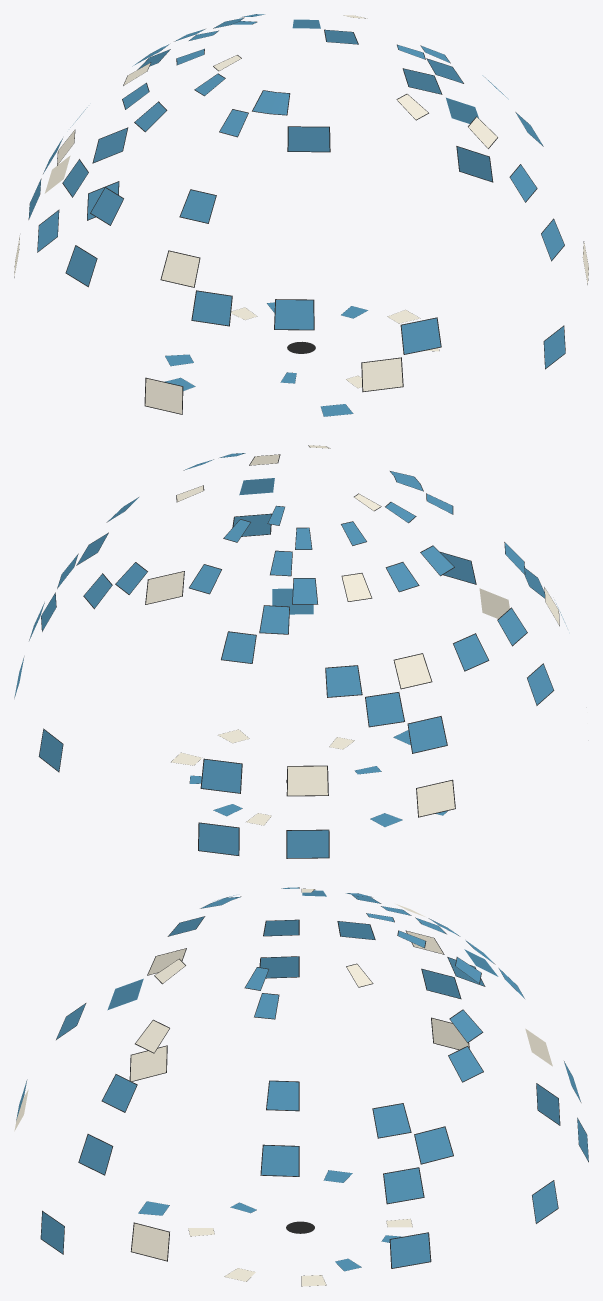
File: Globe.glb
3 renders of one model, top to bottom at view 1: azimuth 30°, elevation 25°; view 2: azimuth 150°, elevation 25°; view 3: azimuth 270°, elevation 25°, orthographic.
Visible parts, largest first — view 1: GblobeParticle.022, GblobeParticle.020, GblobeParticle.026, GblobeParticle.019, GblobeParticle.003, GblobeParticle.027, GblobeParticle.025, GblobeParticle.024, GblobeParticle.008, GblobeParticle.032, GblobeParticle.021, GblobeParticle.031 (+7 smaller); view 2: GblobeParticle.044, GblobeParticle.045, GblobeParticle.050, GblobeParticle.051, GblobeParticle.040, GblobeParticle.039, GblobeParticle.038, GblobeParticle.043, GblobeParticle.037, GblobeParticle.013, GblobeParticle.049, GblobeParticle.034 (+13 smaller); view 3: GblobeParticle.008, GblobeParticle.010, GblobeParticle.007, GblobeParticle.013, GblobeParticle.005, GblobeParticle.006, GblobeParticle.027, GblobeParticle.009, GblobeParticle.016, GblobeParticle.015, GblobeParticle.032, GblobeParticle.040 (+11 smaller).
Part boxes in pixels (x1,y1,x2,y2): GblobeParticle.022: [274, 299, 314, 330]; GblobeParticle.020: [361, 357, 403, 392]; GblobeParticle.026: [191, 290, 232, 326]; GblobeParticle.019: [400, 317, 441, 354]; GblobeParticle.003: [287, 126, 330, 152]; GblobeParticle.027: [144, 377, 183, 414]; GblobeParticle.025: [160, 250, 200, 287]; GblobeParticle.024: [179, 189, 216, 223]; GblobeParticle.008: [456, 146, 493, 182]; GblobeParticle.032: [65, 245, 97, 287]; GblobeParticle.021: [252, 90, 290, 115]; GblobeParticle.031: [90, 187, 123, 225]; GblobeParticle.044: [286, 765, 328, 796]; GblobeParticle.045: [286, 829, 329, 858]; GblobeParticle.050: [200, 758, 242, 793]; GblobeParticle.051: [198, 822, 239, 855]; GblobeParticle.040: [416, 779, 455, 817]; GblobeParticle.039: [407, 716, 447, 753]; GblobeParticle.038: [365, 692, 404, 727]; GblobeParticle.043: [325, 665, 362, 697]; GblobeParticle.037: [393, 653, 432, 689]; GblobeParticle.013: [145, 571, 184, 604]; GblobeParticle.049: [221, 631, 256, 663]; GblobeParticle.034: [453, 633, 489, 671]; GblobeParticle.008: [389, 1232, 431, 1268]; GblobeParticle.010: [260, 1144, 299, 1176]; GblobeParticle.007: [383, 1167, 424, 1204]; GblobeParticle.013: [130, 1222, 169, 1261]; GblobeParticle.005: [414, 1126, 453, 1164]; GblobeParticle.006: [372, 1103, 411, 1138]; GblobeParticle.027: [129, 1045, 167, 1081]; GblobeParticle.009: [266, 1080, 299, 1111]; GblobeParticle.016: [78, 1134, 113, 1175]; GblobeParticle.015: [101, 1074, 137, 1112]; GblobeParticle.032: [259, 956, 299, 978]; GblobeParticle.040: [431, 1017, 469, 1049].
Size of the model in its own units: 2.84 by 1.74 by 2.97.
